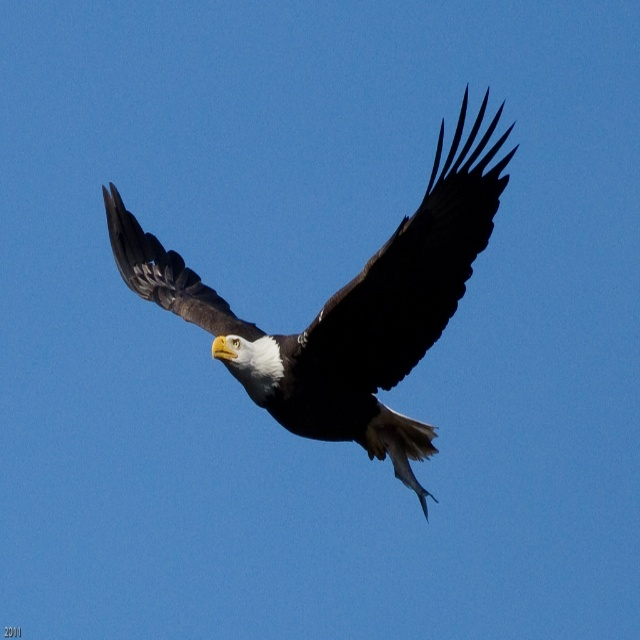Eagle: (102, 82, 520, 524)
